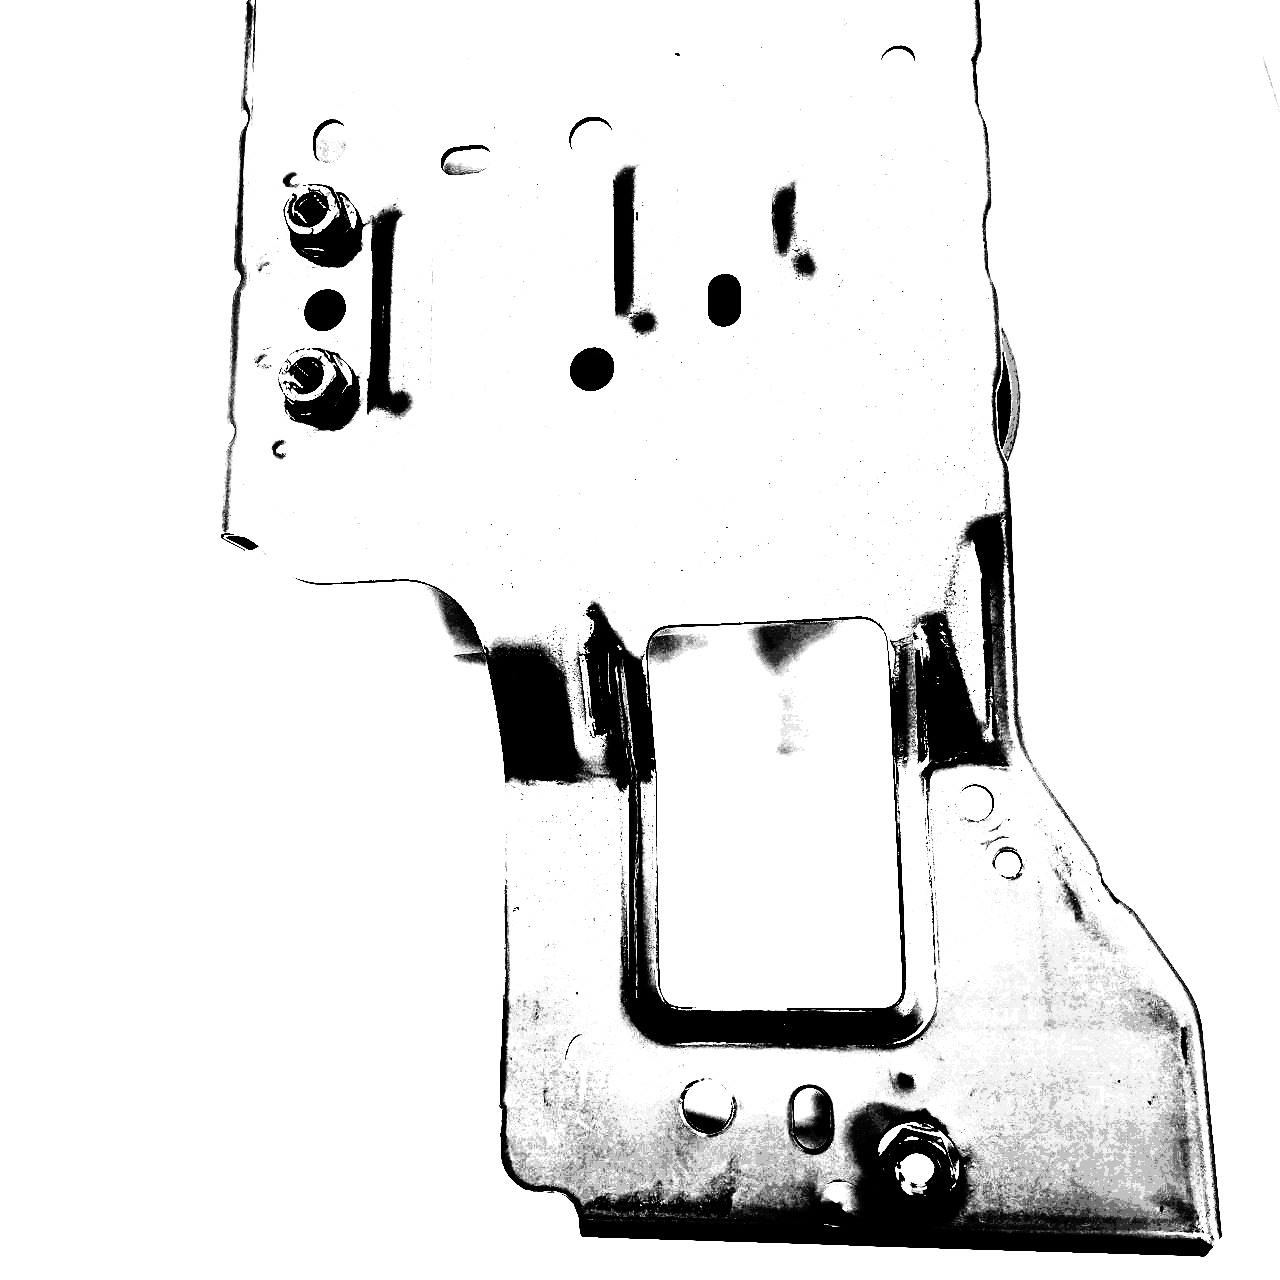dog: (869, 1107, 964, 1216), (274, 340, 362, 430), (282, 181, 368, 270)
